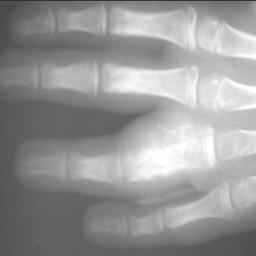cancer: (124, 117, 212, 181)
